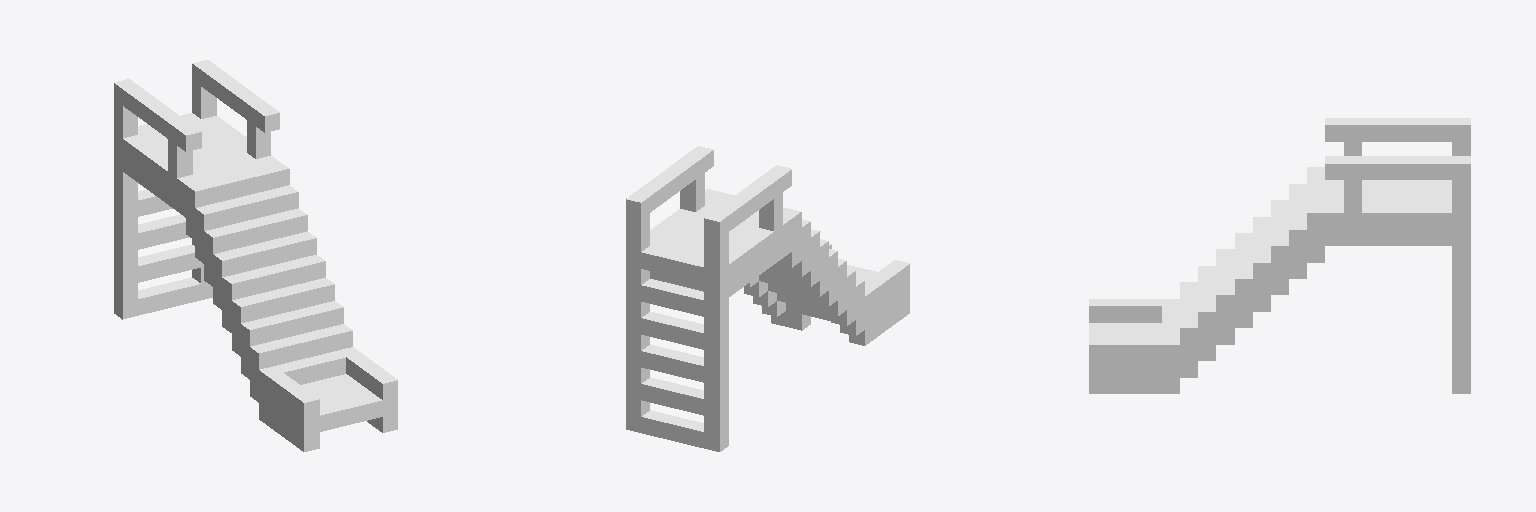
File: ladder2.obj
The picture shows the model from 3 angles: view 1: azimuth 30°, elevation 25°; view 2: azimuth 150°, elevation 25°; view 3: azimuth 270°, elevation 25°; orthographic projection.
Parts seen in each view (by area): view 1: object 1; view 2: object 1; view 3: object 1.
Part boxes in pixels (bbox=[...]): object 1: bbox=[114, 60, 397, 451]; object 1: bbox=[626, 146, 909, 451]; object 1: bbox=[1089, 118, 1470, 393].
Bounding box in the file's own units: 0.6 × 1.4 × 2.1.